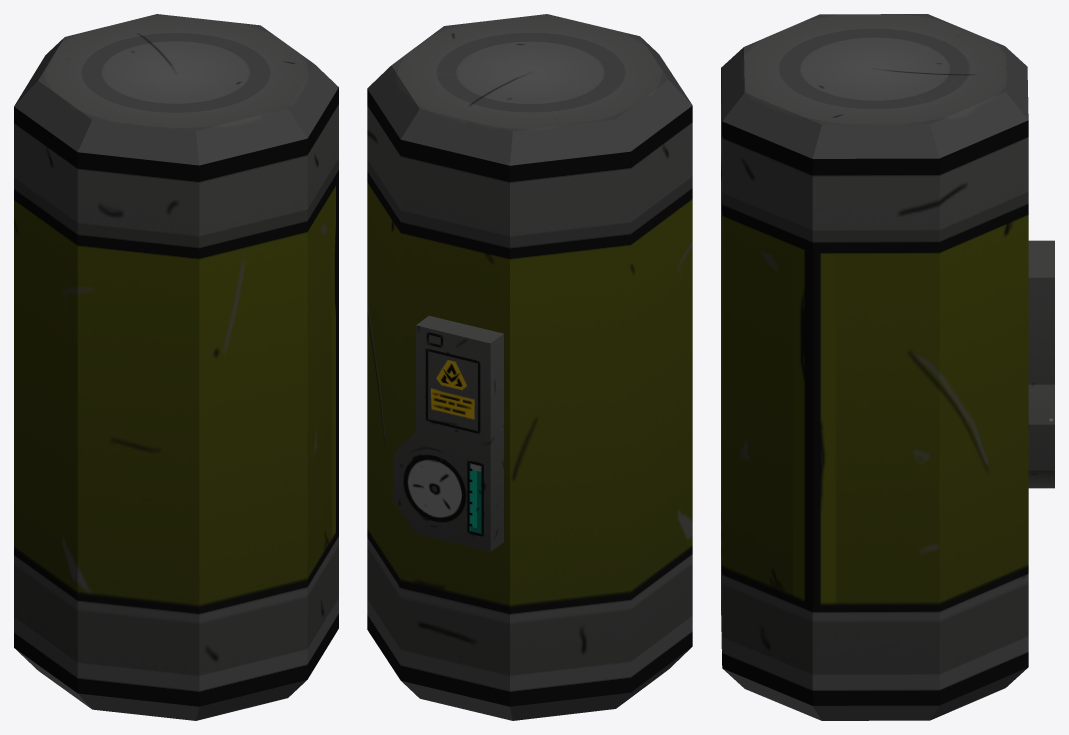
Rendered from mod_mod_bp_cylinder01.fbx.
3 views of the same model, side by side, from view 1: azimuth 30°, elevation 25°; view 2: azimuth 150°, elevation 25°; view 3: azimuth 270°, elevation 25° (orthographic).
Visible parts, largest first — view 1: mod_mod_bp_canister02; view 2: mod_mod_bp_canister02; view 3: mod_mod_bp_canister02.
Boxes of the visible parts, box(x1,y1,x2,y2) form: mod_mod_bp_canister02: box(14, 14, 338, 720); mod_mod_bp_canister02: box(367, 14, 692, 720); mod_mod_bp_canister02: box(721, 14, 1054, 720).
Bounding box in the file's own units: 13.56 × 29.02 × 14.72.
